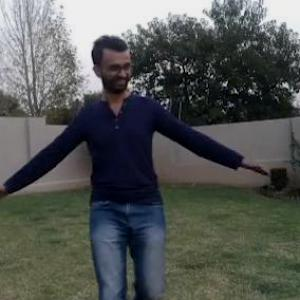land: (15, 36, 260, 299)
